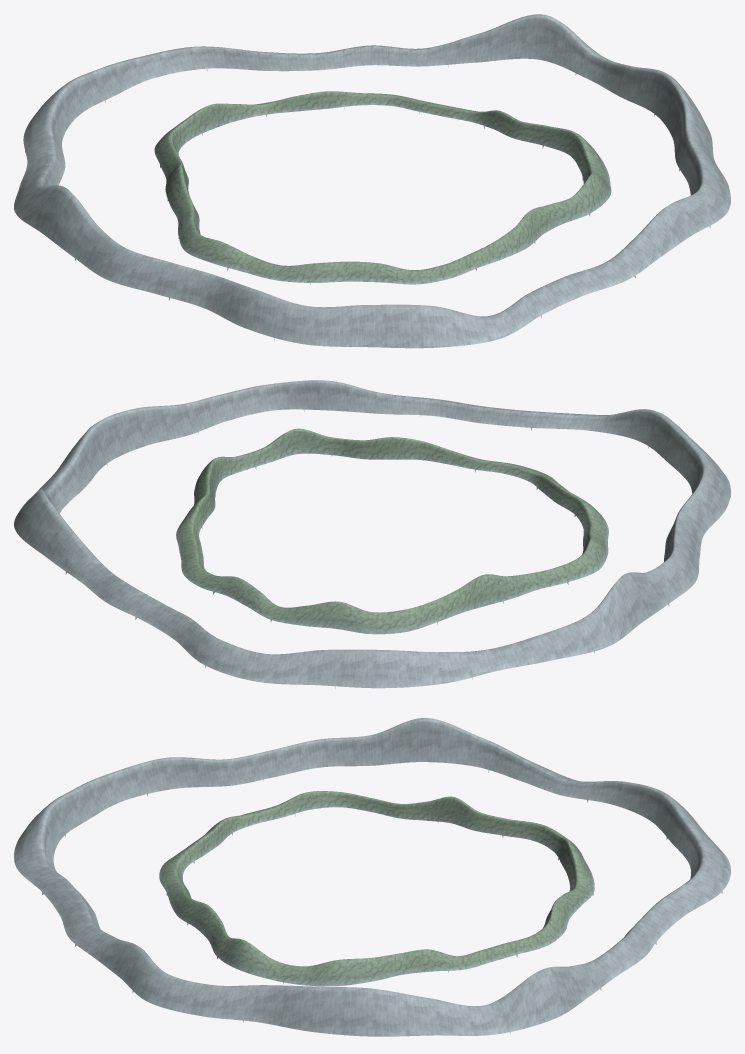
Rendered from distant_hills_ridges.gltf.
3 views of the same model, one above another, from view 1: azimuth 30°, elevation 25°; view 2: azimuth 150°, elevation 25°; view 3: azimuth 270°, elevation 25° (orthographic). The views are drawn at different scales.
Parts seen in each view (by area): view 1: distant_hills_ridges_far_s05_LOD0, distant_hills_ridges_far_s14_LOD0, distant_hills_ridges_far_s06_LOD0, distant_hills_ridges_far_s04_LOD0, distant_hills_ridges_far_s07_LOD0, distant_hills_ridges_far_s08_LOD0, distant_hills_ridges_far_s02_LOD0, distant_hills_ridges_far_s10_LOD0, distant_hills_ridges_far_s15_LOD0, distant_hills_ridges_far_s11_LOD0, distant_hills_ridges_far_s00_LOD0, distant_hills_ridges_far_s01_LOD0 (+20 smaller); view 2: distant_hills_ridges_far_s10_LOD0, distant_hills_ridges_far_s11_LOD0, distant_hills_ridges_far_s08_LOD0, distant_hills_ridges_far_s00_LOD0, distant_hills_ridges_far_s09_LOD0, distant_hills_ridges_far_s14_LOD0, distant_hills_ridges_far_s01_LOD0, distant_hills_ridges_far_s02_LOD0, distant_hills_ridges_far_s15_LOD0, distant_hills_ridges_far_s05_LOD0, distant_hills_ridges_far_s04_LOD0, distant_hills_ridges_far_s06_LOD0 (+20 smaller); view 3: distant_hills_ridges_far_s00_LOD0, distant_hills_ridges_far_s15_LOD0, distant_hills_ridges_far_s08_LOD0, distant_hills_ridges_far_s14_LOD0, distant_hills_ridges_far_s01_LOD0, distant_hills_ridges_far_s06_LOD0, distant_hills_ridges_far_s07_LOD0, distant_hills_ridges_far_s05_LOD0, distant_hills_ridges_far_s04_LOD0, distant_hills_ridges_far_s10_LOD0, distant_hills_ridges_far_s11_LOD0, distant_hills_ridges_far_s09_LOD0 (+20 smaller).
Part boxes in pixels (bbox=[...]): distant_hills_ridges_far_s05_LOD0: bbox=[274, 299, 420, 348]; distant_hills_ridges_far_s14_LOD0: bbox=[448, 14, 590, 75]; distant_hills_ridges_far_s06_LOD0: bbox=[169, 266, 280, 337]; distant_hills_ridges_far_s04_LOD0: bbox=[417, 294, 541, 348]; distant_hills_ridges_far_s07_LOD0: bbox=[75, 226, 183, 297]; distant_hills_ridges_far_s08_LOD0: bbox=[14, 182, 98, 260]; distant_hills_ridges_far_s02_LOD0: bbox=[614, 198, 710, 278]; distant_hills_ridges_far_s10_LOD0: bbox=[23, 71, 105, 152]; distant_hills_ridges_far_s15_LOD0: bbox=[575, 45, 665, 113]; distant_hills_ridges_far_s11_LOD0: bbox=[92, 46, 207, 99]; distant_hills_ridges_far_s00_LOD0: bbox=[654, 73, 716, 171]; distant_hills_ridges_far_s01_LOD0: bbox=[679, 142, 730, 224]; distant_hills_ridges_far_s10_LOD0: bbox=[335, 649, 472, 688]; distant_hills_ridges_far_s11_LOD0: bbox=[205, 639, 338, 686]; distant_hills_ridges_far_s08_LOD0: bbox=[579, 572, 668, 653]; distant_hills_ridges_far_s00_LOD0: bbox=[93, 402, 198, 465]; distant_hills_ridges_far_s09_LOD0: bbox=[466, 620, 594, 679]; distant_hills_ridges_far_s14_LOD0: bbox=[14, 489, 91, 574]; distant_hills_ridges_far_s01_LOD0: bbox=[191, 381, 304, 433]; distant_hills_ridges_far_s02_LOD0: bbox=[301, 380, 422, 416]; distant_hills_ridges_far_s15_LOD0: bbox=[18, 424, 107, 513]; distant_hills_ridges_far_s05_LOD0: bbox=[648, 413, 730, 493]; distant_hills_ridges_far_s04_LOD0: bbox=[531, 409, 661, 447]; distant_hills_ridges_far_s06_LOD0: bbox=[665, 470, 730, 551]; distant_hills_ridges_far_s00_LOD0: bbox=[243, 985, 371, 1036]; distant_hills_ridges_far_s15_LOD0: bbox=[371, 988, 510, 1036]; distant_hills_ridges_far_s08_LOD0: bbox=[371, 718, 494, 772]; distant_hills_ridges_far_s14_LOD0: bbox=[500, 964, 600, 1034]; distant_hills_ridges_far_s01_LOD0: bbox=[132, 959, 252, 1022]; distant_hills_ridges_far_s06_LOD0: bbox=[139, 753, 263, 793]; distant_hills_ridges_far_s07_LOD0: bbox=[259, 735, 371, 779]; distant_hills_ridges_far_s05_LOD0: bbox=[49, 764, 147, 833]; distant_hills_ridges_far_s04_LOD0: bbox=[14, 803, 68, 894]; distant_hills_ridges_far_s10_LOD0: bbox=[587, 781, 696, 839]; distant_hills_ridges_far_s11_LOD0: bbox=[667, 810, 730, 893]; distant_hills_ridges_far_s09_LOD0: bbox=[489, 743, 595, 802].
Size of what is drawn, in the model's own units: 1105 by 88.5 by 1160.
Materials: 2 (2 with a texture image).
